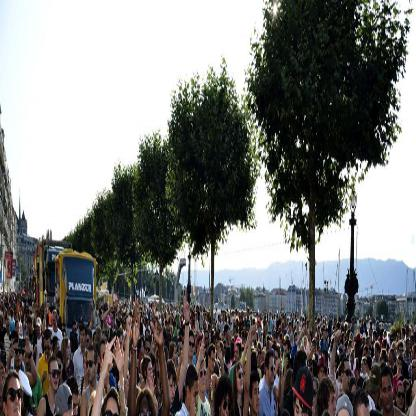face: (8, 379, 22, 416), (382, 378, 394, 411), (295, 397, 311, 416), (190, 383, 200, 413), (106, 399, 121, 416), (139, 399, 154, 416), (87, 354, 96, 382), (101, 346, 109, 376), (168, 375, 176, 404), (199, 365, 207, 393), (51, 365, 59, 392), (328, 392, 337, 416), (221, 397, 232, 416), (70, 393, 79, 416), (253, 384, 260, 413), (312, 381, 319, 408), (344, 365, 351, 392), (15, 344, 23, 367), (237, 367, 244, 391), (397, 388, 405, 409), (269, 355, 274, 383), (25, 351, 32, 370), (57, 359, 63, 381), (273, 350, 279, 372), (189, 337, 195, 356), (45, 341, 51, 359), (320, 369, 326, 387), (211, 352, 216, 373), (83, 358, 88, 376), (118, 338, 124, 353), (148, 364, 153, 382), (12, 337, 17, 354), (65, 343, 70, 360), (236, 346, 241, 363), (145, 343, 151, 357), (86, 335, 91, 351), (81, 331, 86, 346), (173, 348, 177, 366), (140, 342, 145, 356), (53, 314, 57, 330), (56, 341, 60, 357), (111, 313, 115, 329), (179, 342, 183, 358), (200, 340, 204, 355), (74, 325, 78, 339), (286, 345, 290, 359), (412, 362, 416, 376), (152, 366, 156, 379), (205, 332, 209, 345), (258, 348, 262, 361), (398, 359, 402, 372), (412, 348, 416, 361), (399, 348, 404, 357), (146, 332, 150, 343), (151, 339, 154, 352), (375, 347, 378, 360), (38, 324, 41, 336), (216, 337, 219, 349), (311, 365, 314, 377), (390, 353, 393, 365), (167, 328, 170, 339), (17, 323, 20, 333), (29, 322, 32, 332), (124, 319, 127, 329), (227, 329, 230, 339), (362, 362, 365, 372), (365, 351, 368, 361), (7, 323, 10, 332), (36, 308, 39, 317), (407, 342, 410, 351), (1, 317, 3, 327), (25, 314, 27, 323), (280, 339, 283, 345), (366, 362, 368, 371), (305, 340, 307, 349), (351, 344, 353, 351), (325, 329, 327, 335), (344, 337, 346, 343)
